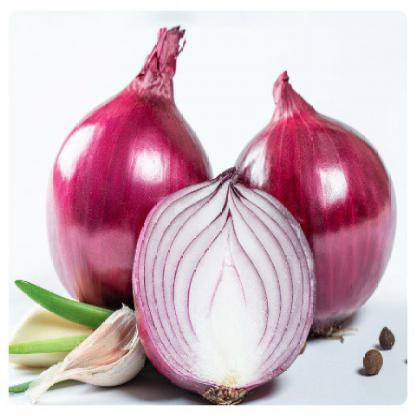onion: (142, 162, 290, 394), (52, 55, 192, 288), (242, 115, 376, 316)
